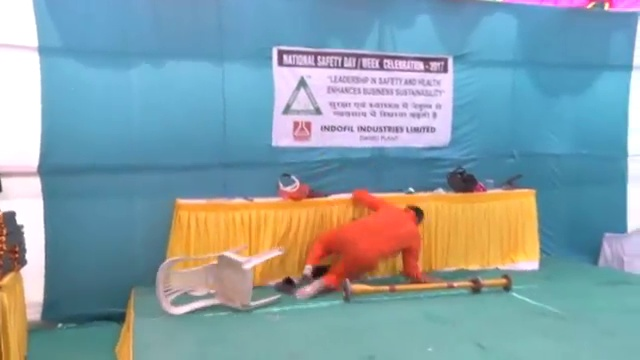helmet_off: (406, 201, 426, 224)
person: (293, 191, 435, 300)
